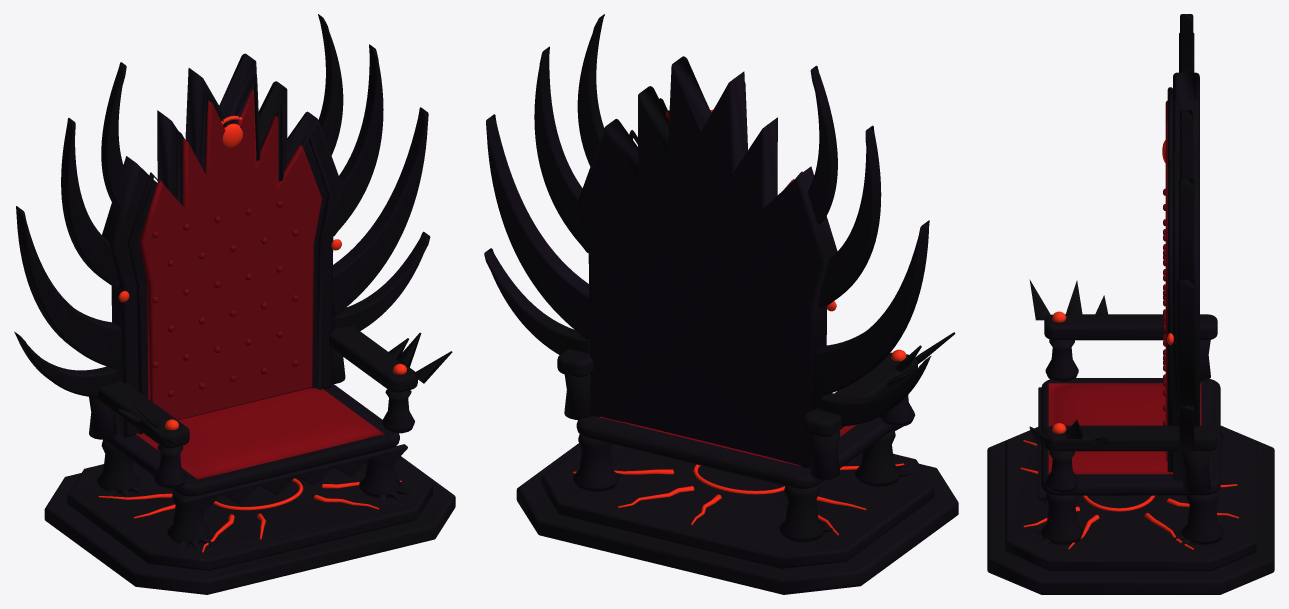
The model's file is TronoEclipse2.gltf.
3 views of the same model, side by side, from view 1: azimuth 30°, elevation 25°; view 2: azimuth 150°, elevation 25°; view 3: azimuth 270°, elevation 25° (orthographic). The views are drawn at different scales.
Visible parts, largest first — view 1: CojinRespaldo, Base, Cuernos, Respaldo, CojinAsiento, Brazos, Asiento, Patas, BaseBrillo, Brillo; view 2: Respaldo, Base, Cuernos, Asiento, Brazos, Patas, BaseBrillo; view 3: Base, Brazos, CojinAsiento, Respaldo, Cuernos, Asiento, Patas, CojinRespaldo, BaseBrillo, Brillo.
Boxes of the visible parts, box(x1,y1,x2,y2) form: CojinRespaldo: box(139, 89, 321, 420); Base: box(44, 456, 455, 594); Cuernos: box(14, 14, 430, 397); Respaldo: box(102, 53, 343, 437); CojinAsiento: box(136, 388, 384, 479); Brazos: box(89, 325, 452, 488); Asiento: box(104, 383, 407, 513); Patas: box(97, 439, 411, 550); BaseBrillo: box(98, 478, 401, 552); Brillo: box(118, 115, 406, 430); Respaldo: box(577, 56, 837, 468); Base: box(516, 443, 958, 594); Cuernos: box(484, 14, 931, 426); Asiento: box(576, 415, 903, 488); Brazos: box(557, 332, 955, 479); Patas: box(573, 429, 911, 542); BaseBrillo: box(573, 463, 904, 535); Base: box(987, 425, 1274, 594); Brazos: box(1029, 279, 1217, 493); CojinAsiento: box(1048, 383, 1201, 474); Respaldo: box(1167, 72, 1199, 481); Cuernos: box(1177, 14, 1195, 450); Asiento: box(1038, 378, 1220, 504); Patas: box(1030, 433, 1224, 546); CojinRespaldo: box(1163, 100, 1167, 461); BaseBrillo: box(1020, 440, 1239, 549); Brillo: box(1052, 140, 1173, 433).
Size of the model in its own units: 7.9 by 8.4 by 4.8.
